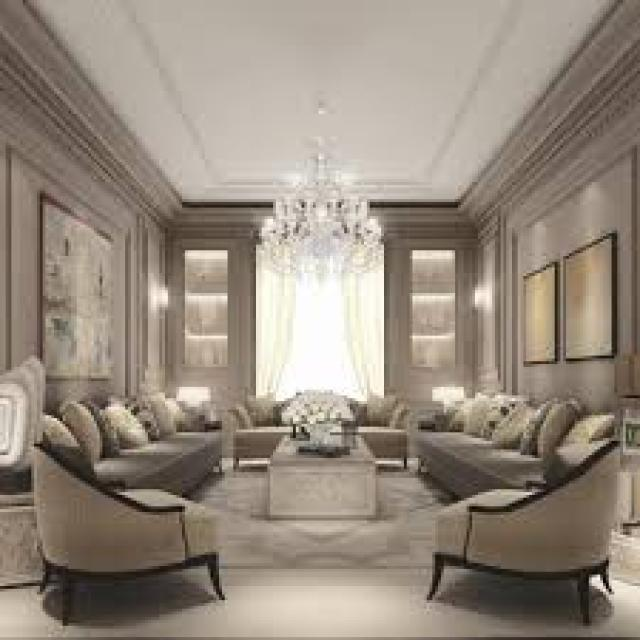Chair: (416, 438, 638, 622), (28, 442, 235, 628)
Lamp: (261, 84, 385, 287)
Sofa: (46, 376, 225, 499), (419, 407, 620, 506), (234, 382, 413, 479)
Table: (272, 419, 383, 523)
